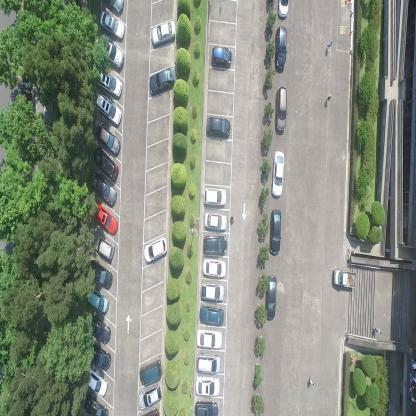car: (92, 144, 119, 181), (93, 121, 120, 156), (90, 172, 117, 205), (96, 93, 122, 127), (148, 66, 176, 97), (100, 10, 126, 42), (92, 202, 118, 234), (100, 36, 124, 70), (143, 236, 169, 266), (96, 68, 122, 98), (137, 382, 163, 411), (88, 259, 113, 289), (151, 18, 176, 47), (139, 358, 163, 386), (88, 315, 111, 344), (90, 342, 112, 372), (86, 368, 108, 398), (274, 24, 287, 72), (271, 151, 284, 199), (268, 209, 281, 257), (205, 115, 231, 139), (87, 287, 109, 315), (199, 304, 225, 327), (264, 276, 277, 321), (275, 84, 287, 132), (196, 352, 222, 374), (202, 235, 228, 256), (94, 235, 115, 261), (332, 268, 356, 290), (195, 375, 220, 396), (196, 329, 222, 349), (210, 46, 232, 69), (84, 394, 108, 415), (205, 211, 227, 233), (202, 259, 227, 278), (203, 187, 226, 207), (201, 282, 225, 300), (194, 400, 218, 416), (104, 0, 125, 15), (276, 0, 289, 20)
